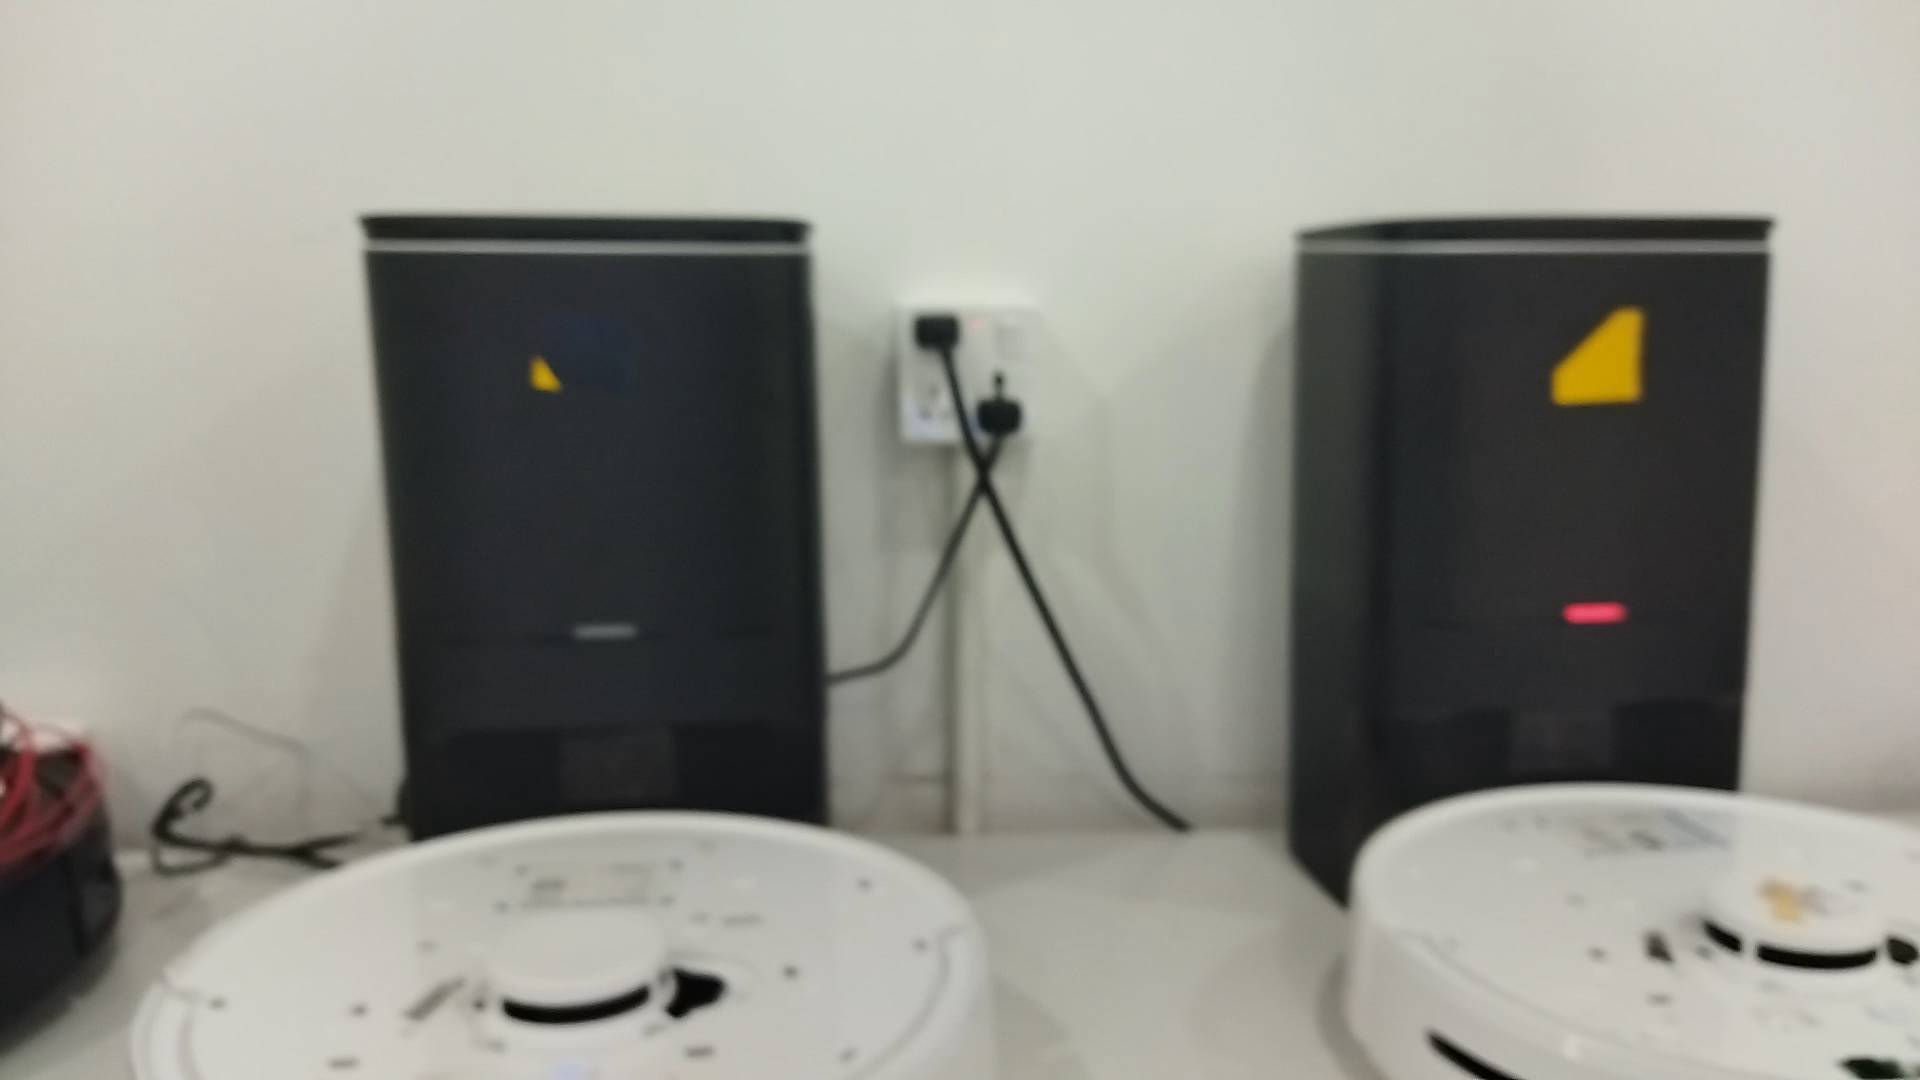dust collecting barrel: (1286, 214, 1778, 907), (355, 214, 841, 840)
